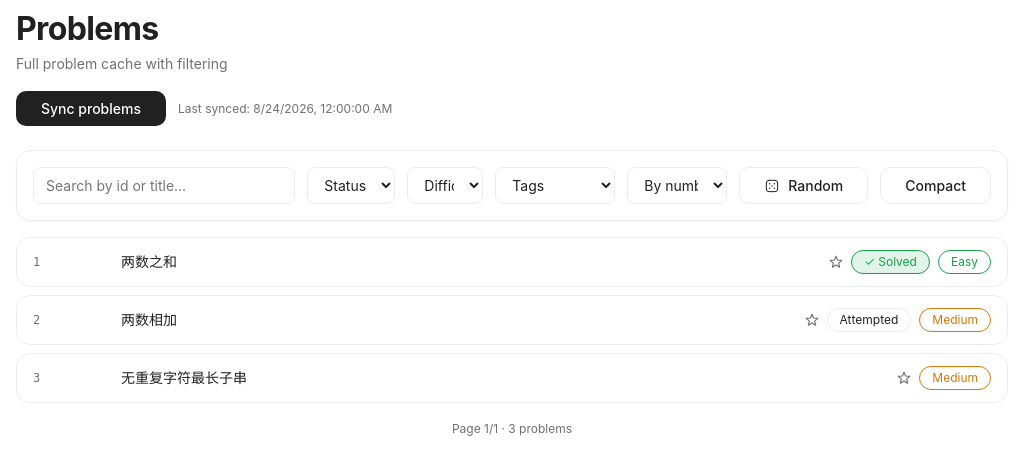
Test: Problems view › filters by practice status: solved / attempted / todo / favorite
This screenshot has width=1025, height=453.
Select "Solved" in the dropdown with test id "status-select" at (351, 186), box [307, 167, 395, 204]
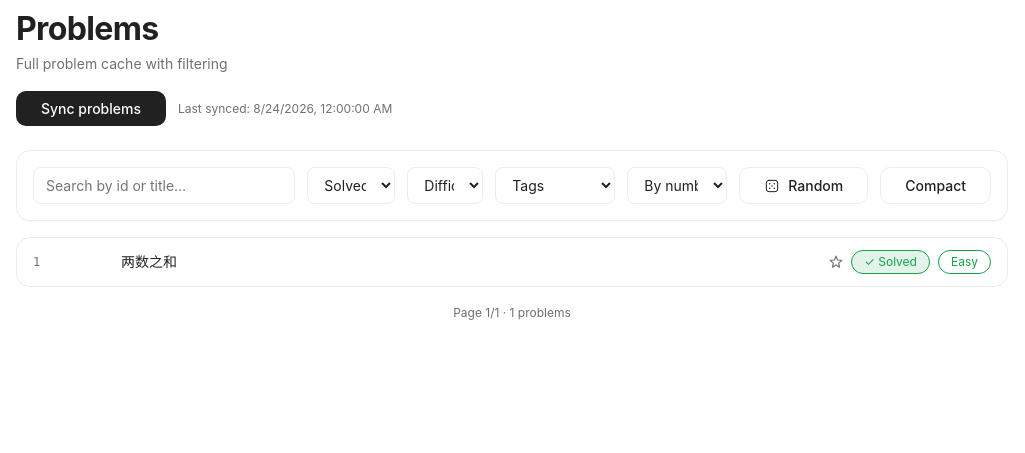
Expected: the text "两数之和" is shown, [121, 251, 177, 274]
Expected: the number of links with test id "problem-card" is 1, [16, 237, 1008, 287]
Select "Attempted" in the dropdown with test id "status-select" at (351, 186), box [307, 167, 395, 204]
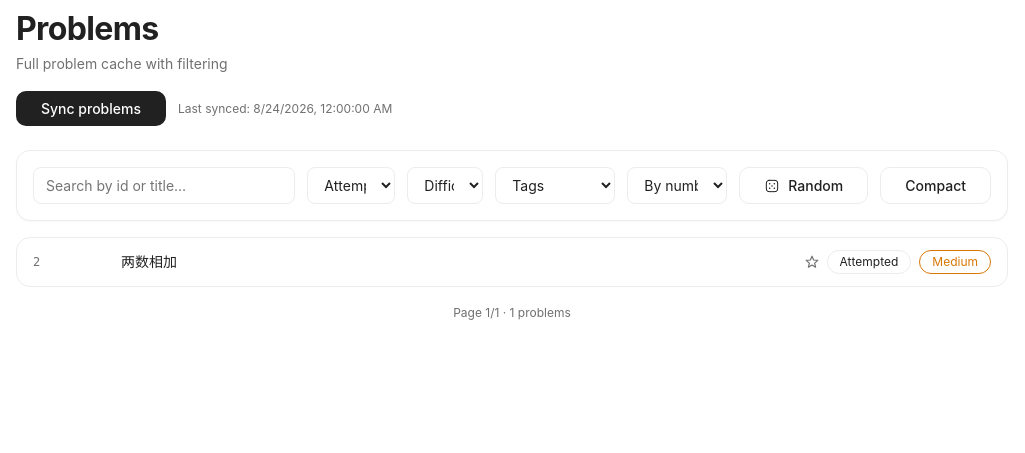
Expected: the number of links with test id "problem-card" is 1, [16, 237, 1008, 287]
Expected: the text "两数相加" is shown, [121, 251, 177, 274]
Select "Not tried" in the dropdown with test id "status-select" at (351, 186), box [307, 167, 395, 204]
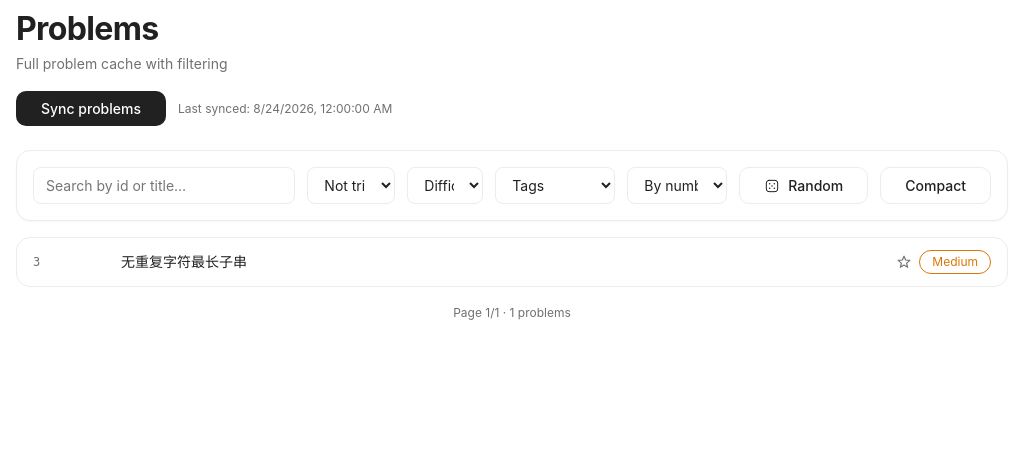
Expected: the number of links with test id "problem-card" is 1, [16, 237, 1008, 287]
Expected: the text "无重复字符最长子串" is shown, [121, 251, 247, 274]
Select "Favorites" in the dropdown with test id "status-select" at (351, 186), box [307, 167, 395, 204]
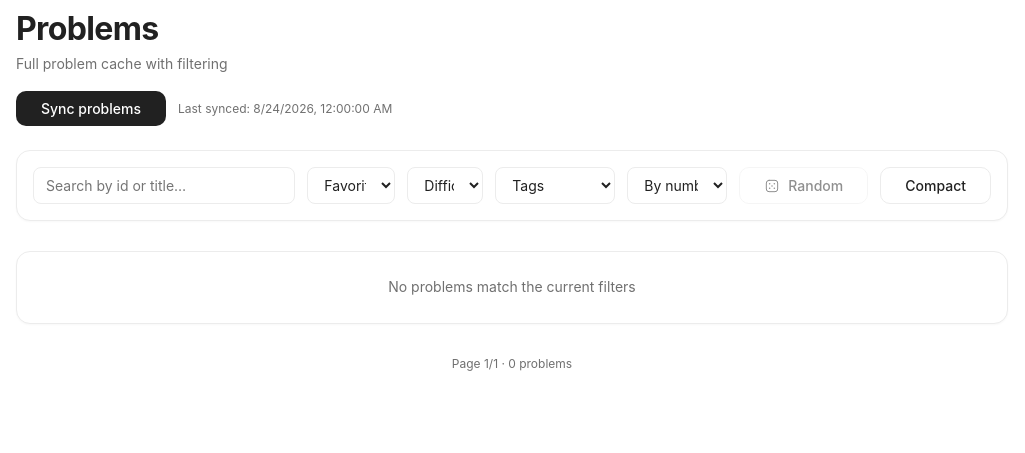
Expected: the text "No problems match the current filters" is shown, [16, 251, 1008, 324]
Select "Status" in the dropdown with test id "status-select" at (351, 186), box [307, 167, 395, 204]
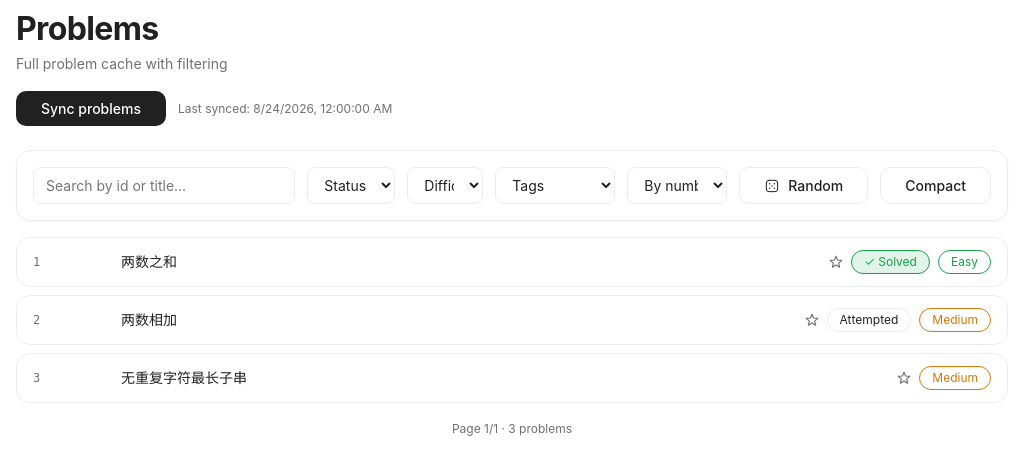
Expected: the number of links with test id "problem-card" is 3, [16, 237, 1008, 287]; [16, 295, 1008, 345]; [16, 353, 1008, 403]
